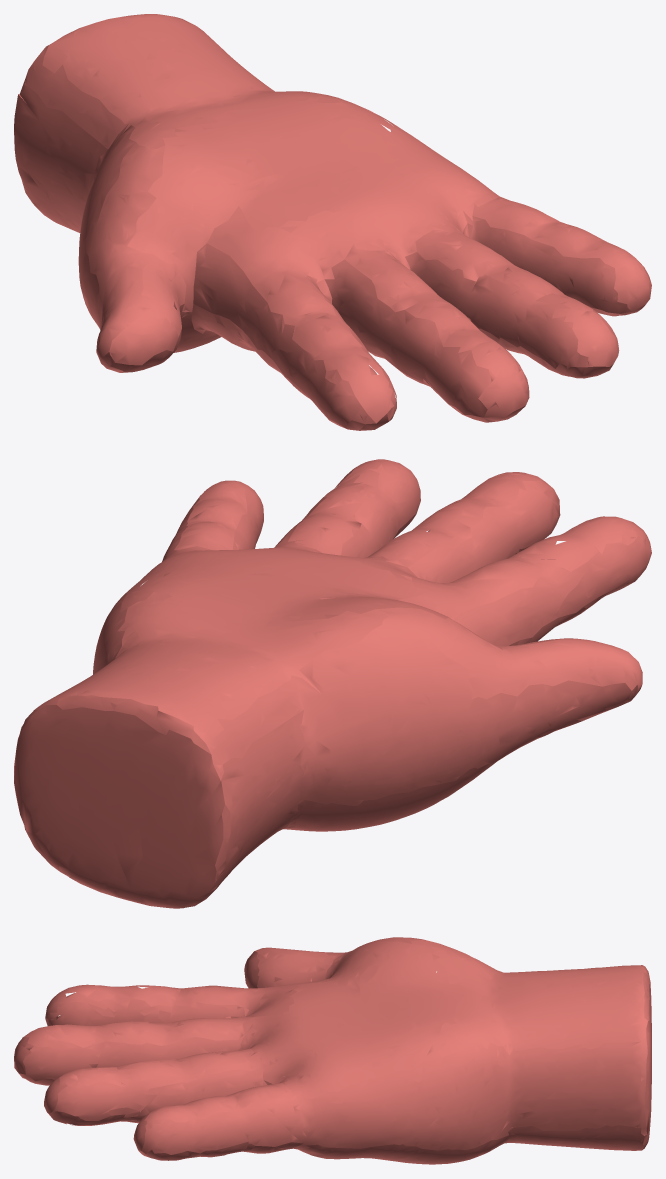
The model's file is hand_R.glb.
The picture shows the model from 3 angles, top to bottom: view 1: azimuth 30°, elevation 25°; view 2: azimuth 150°, elevation 25°; view 3: azimuth 270°, elevation 25°; orthographic projection. The views are drawn at different scales.
Parts seen in each view (by area): view 1: geometry_0; view 2: geometry_0; view 3: geometry_0.
Part boxes in pixels (bbox=[...]): geometry_0: bbox=[14, 14, 651, 430]; geometry_0: bbox=[14, 459, 651, 908]; geometry_0: bbox=[14, 937, 651, 1164].
Bounding box in the file's own units: 0.695 × 0.2728 × 0.9998.
1 material, 1 textured.
